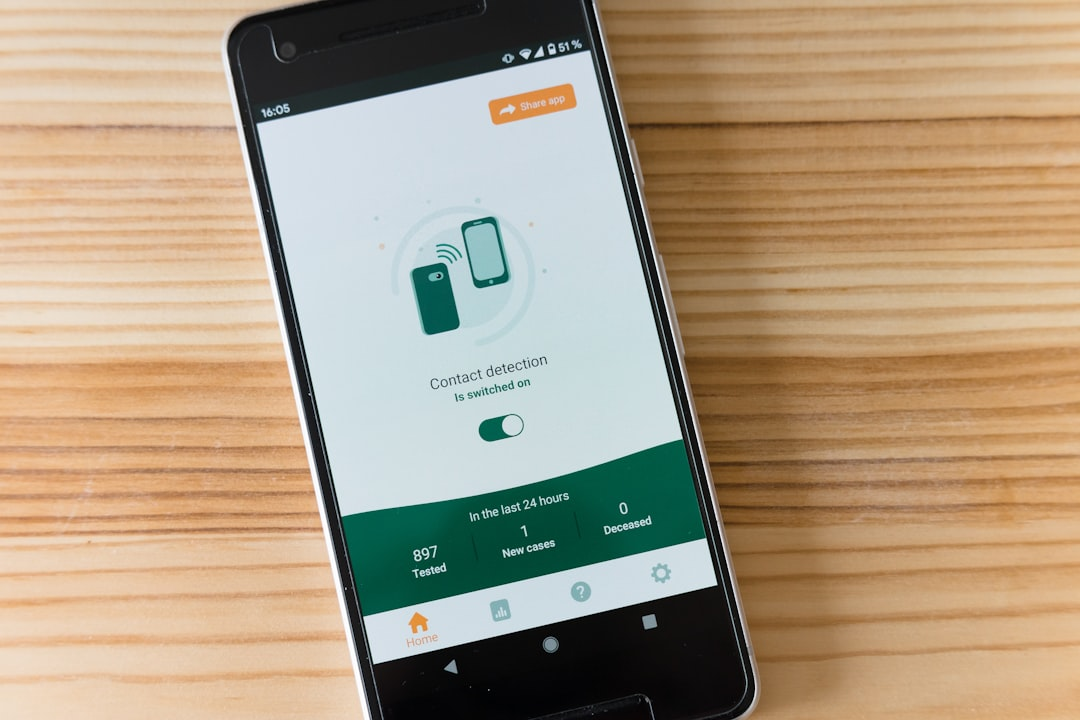phone: (220, 1, 760, 716)
